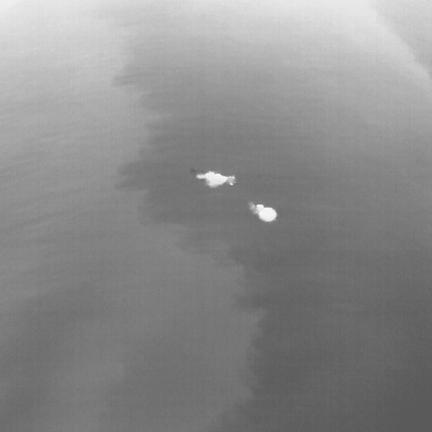flukeprints: (191, 170, 236, 187), (250, 202, 277, 221)
